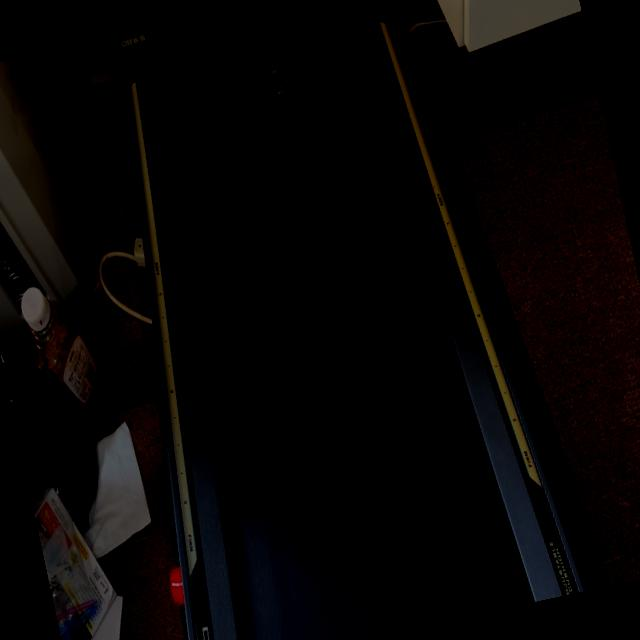Trash: (264, 62, 287, 101)
